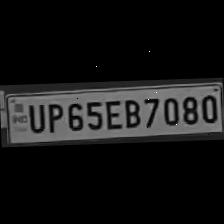0: (158, 92, 180, 125), (198, 90, 218, 123)
5: (83, 97, 103, 130)
6: (62, 98, 82, 132)
7: (140, 94, 160, 128)
8: (178, 92, 198, 125)
B: (120, 95, 140, 128)
E: (103, 96, 121, 130)
P: (42, 99, 64, 133)
U: (22, 100, 44, 134)
